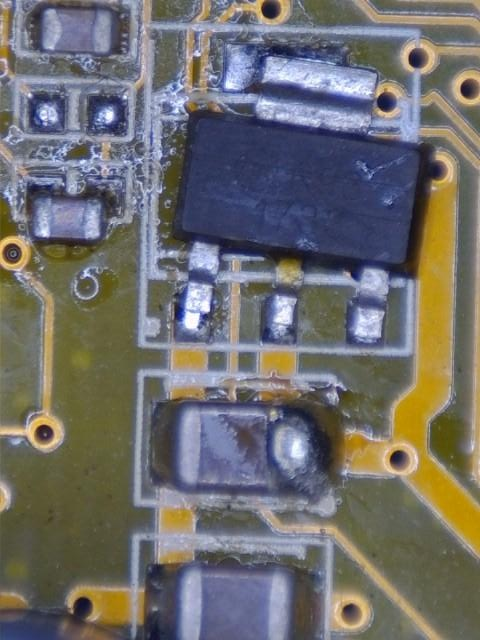pcb_defect: (172, 42, 426, 346)
